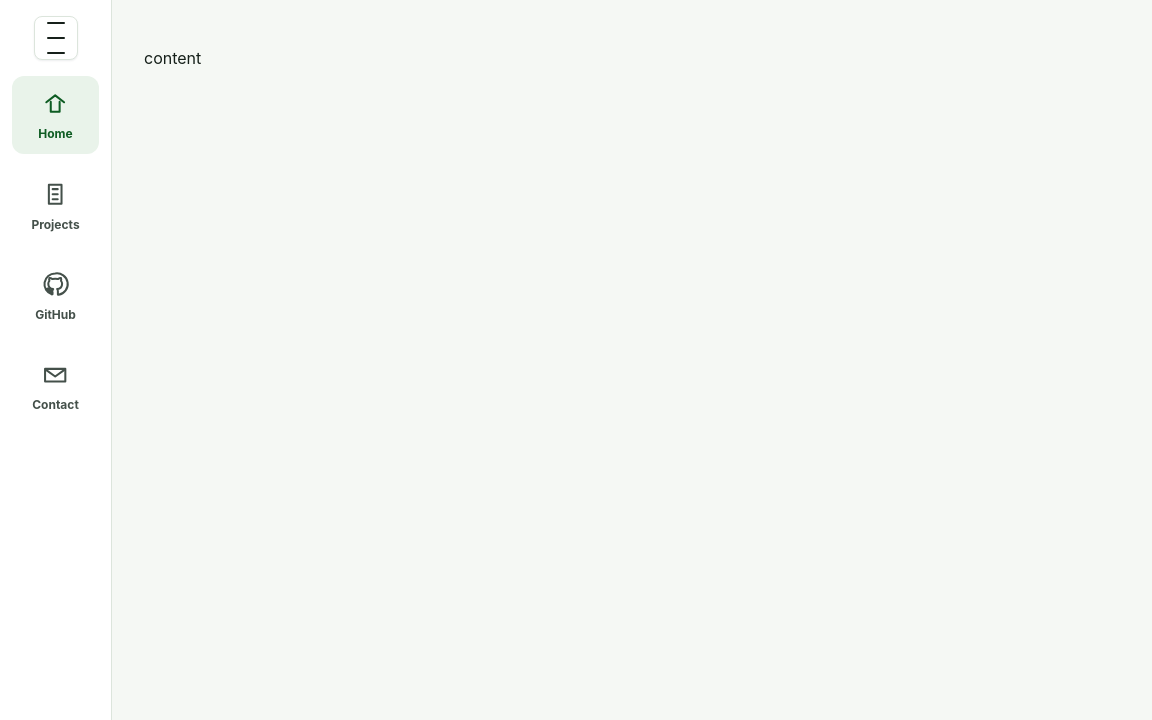
Test case: PublicShell nav overlay responsive behavior › collapses the rail when the desktop nav toggle is clicked
Click the button named "Hide navigation".
click(56, 38)  # box [34, 16, 78, 60]
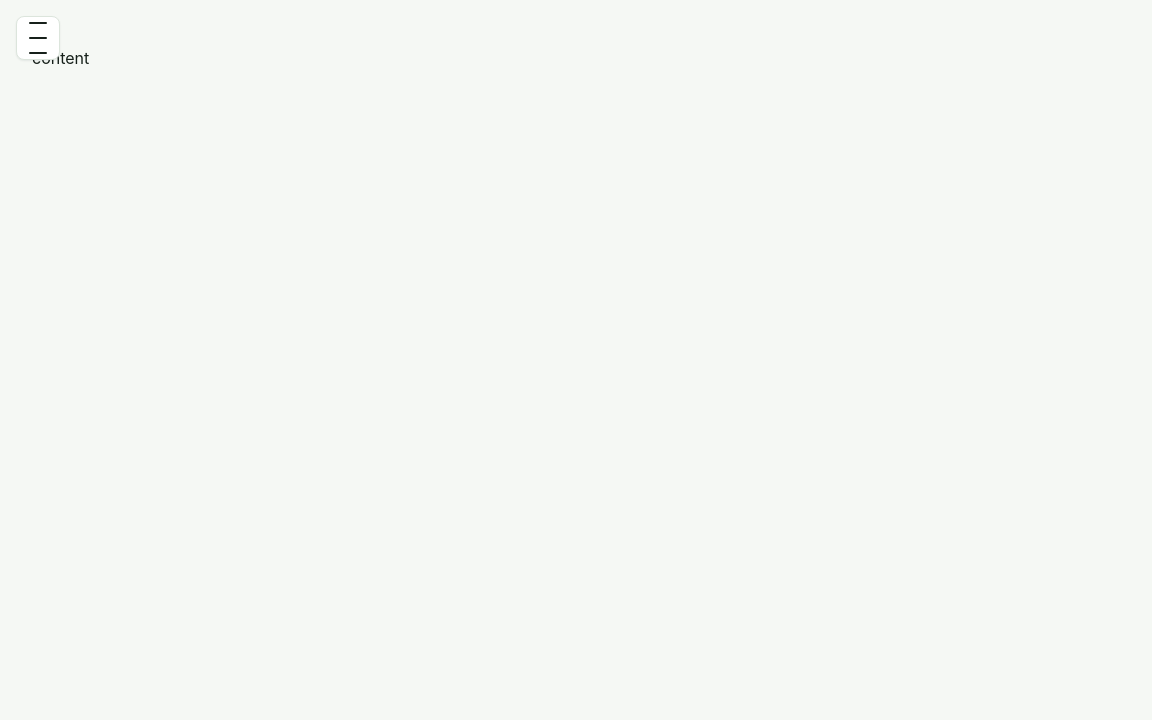
Expected: the button named "Show navigation" is collapsed, [16, 16, 60, 60]
